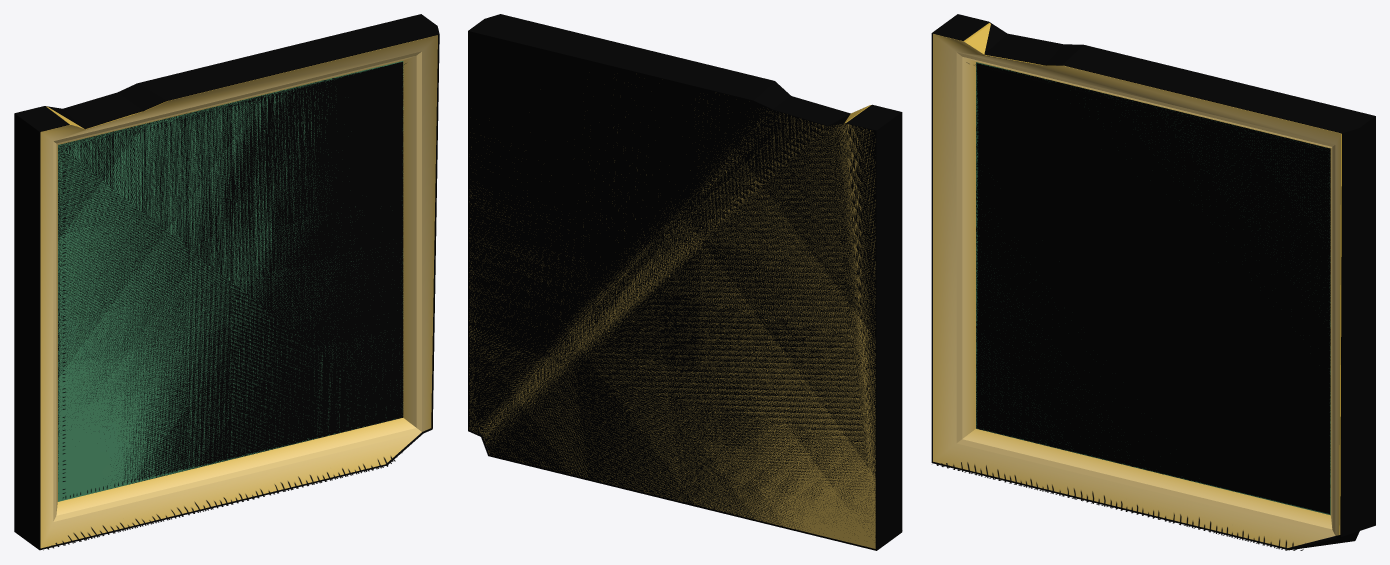
The model's file is PictureFrame_Regular.glb.
3 views of the same model, side by side, from view 1: azimuth 30°, elevation 25°; view 2: azimuth 150°, elevation 25°; view 3: azimuth 330°, elevation 25° (orthographic). The views are drawn at different scales.
Parts seen in each view (by area): view 1: PictureFrame_Regular; view 2: PictureFrame_Regular; view 3: PictureFrame_Regular.
Boxes of the visible parts, x1,y1,x2,y2 form: PictureFrame_Regular: (14,14,439,550); PictureFrame_Regular: (468,14,902,550); PictureFrame_Regular: (931,14,1375,550).
Bounding box in the file's own units: 1.97 × 1.94 × 0.2284.
Materials: 3 (2 with a texture image).
